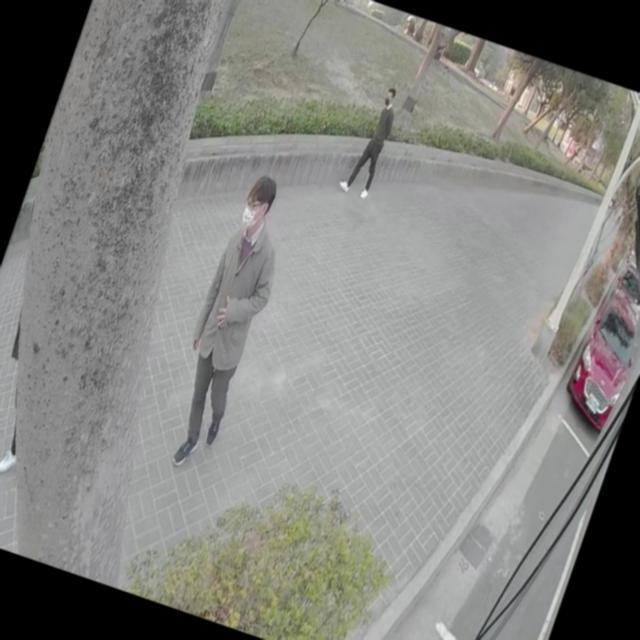person: (150, 168, 306, 476), (338, 79, 408, 198)
